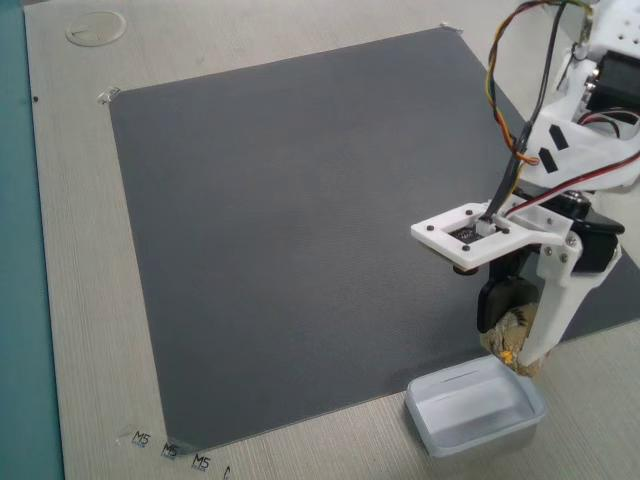gripper: (434, 183, 607, 356)
